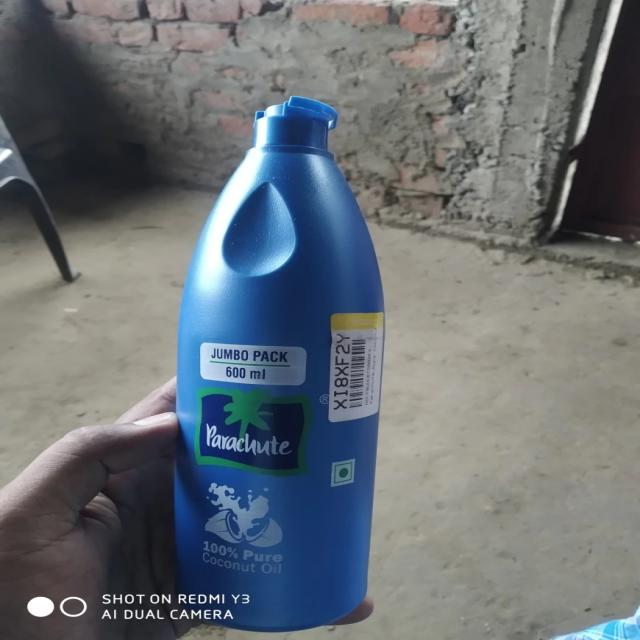parachute_oil: (164, 100, 392, 631)
